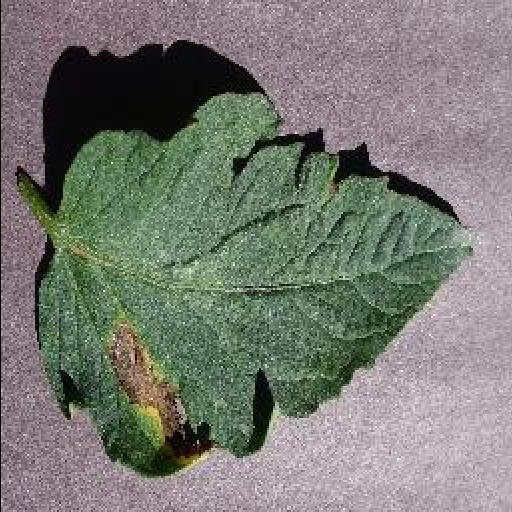disease_tomato: (34, 94, 474, 476)
